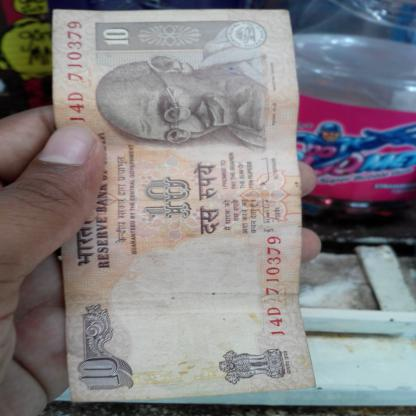Old10Front: (49, 8, 320, 405)
